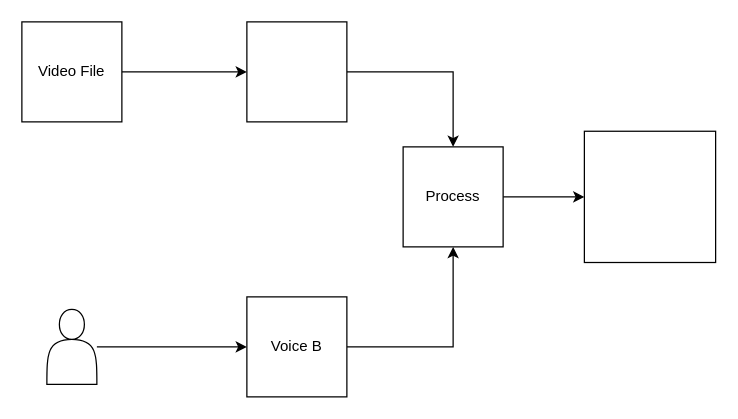
Some shapes in this 738 by 419 pixel diagram are drawn without their labels. Here are the shapes that lost their labels. From the top down, the box of each, then its label:
(246, 21, 347, 122): Voice A
(583, 130, 716, 262): Video + Voice B
